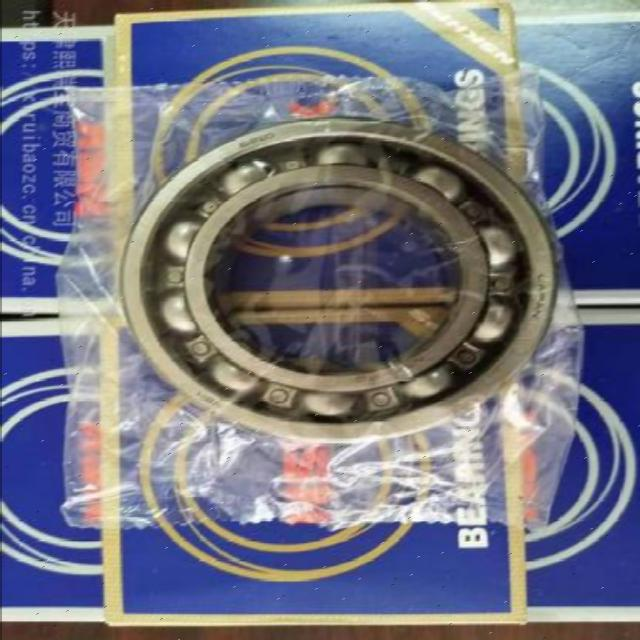Bearing: (116, 114, 558, 448)
